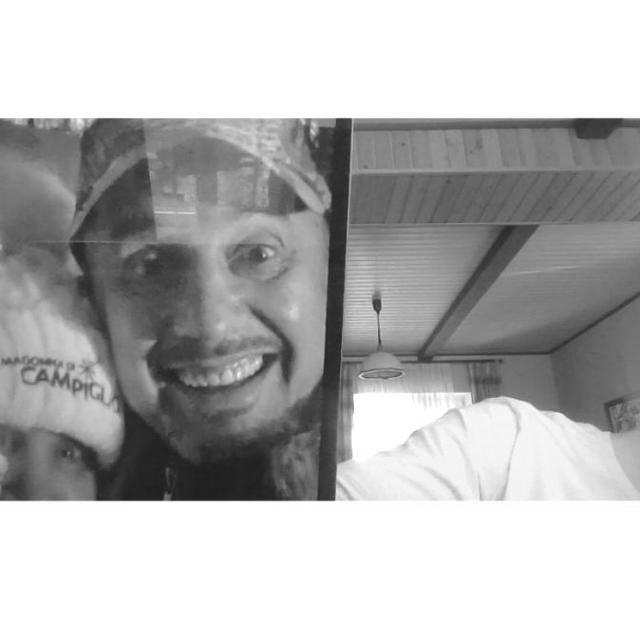fake: (0, 117, 349, 501)
